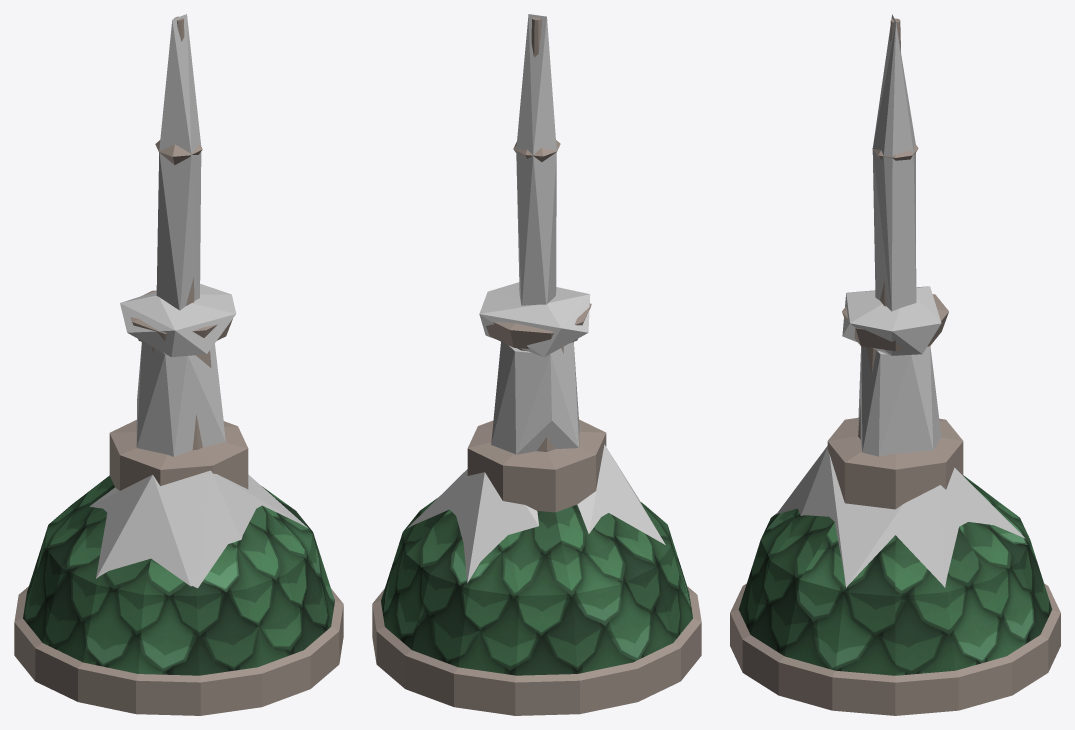
File: SM_Bld_Roof_Tower_04.fbx
The picture shows the model from 3 angles, left to right: view 1: azimuth 30°, elevation 25°; view 2: azimuth 150°, elevation 25°; view 3: azimuth 270°, elevation 25°; orthographic projection.
Parts seen in each view (by area): view 1: SM_Bld_Roof_Tower_04, SM_Bld_Roof_Tower_04_ConvexHulls; view 2: SM_Bld_Roof_Tower_04, SM_Bld_Roof_Tower_04_ConvexHulls; view 3: SM_Bld_Roof_Tower_04, SM_Bld_Roof_Tower_04_ConvexHulls.
Boxes of the visible parts, left/top/right/bottom form: SM_Bld_Roof_Tower_04: left=14, top=16, right=343, bottom=715; SM_Bld_Roof_Tower_04_ConvexHulls: left=90, top=14, right=308, bottom=588; SM_Bld_Roof_Tower_04: left=372, top=17, right=701, bottom=715; SM_Bld_Roof_Tower_04_ConvexHulls: left=407, top=14, right=665, bottom=582; SM_Bld_Roof_Tower_04: left=730, top=18, right=1060, bottom=715; SM_Bld_Roof_Tower_04_ConvexHulls: left=776, top=14, right=1025, bottom=587.
Size of the model in its own units: 243 by 243 by 509.
3 materials, 2 textured.
